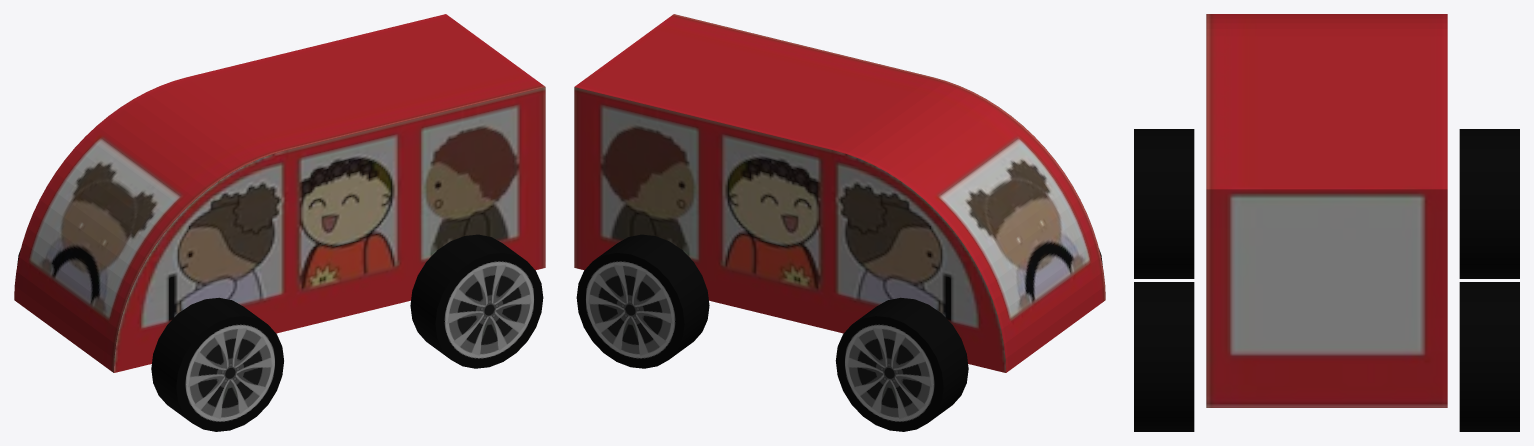
Rendered from car.glb.
The picture shows the model from 3 angles, left to right: view 1: azimuth 30°, elevation 25°; view 2: azimuth 150°, elevation 25°; view 3: azimuth 270°, elevation 25°; orthographic projection. The views are drawn at different scales.
Parts seen in each view (by area): view 1: car, wheelLB, wheelLF; view 2: car, wheelRB, wheelRF; view 3: car, wheelRB, wheelRF, wheelLB, wheelLF.
Part boxes in pixels (x1=…): car: x1=14, y1=14, x2=545, y2=372; wheelLB: x1=410, y1=234, x2=543, y2=368; wheelLF: x1=151, y1=297, x2=283, y2=431; car: x1=574, y1=14, x2=1105, y2=372; wheelRB: x1=576, y1=234, x2=709, y2=368; wheelRF: x1=835, y1=297, x2=968, y2=431; car: x1=1206, y1=14, x2=1447, y2=407; wheelRB: x1=1459, y1=282, x2=1519, y2=431; wheelRF: x1=1459, y1=129, x2=1519, y2=278; wheelLB: x1=1134, y1=282, x2=1194, y2=431; wheelLF: x1=1134, y1=129, x2=1194, y2=278.
Size of the model in its own units: 0.5 by 0.2625 by 0.32.
Materials: 2 (2 with a texture image).
